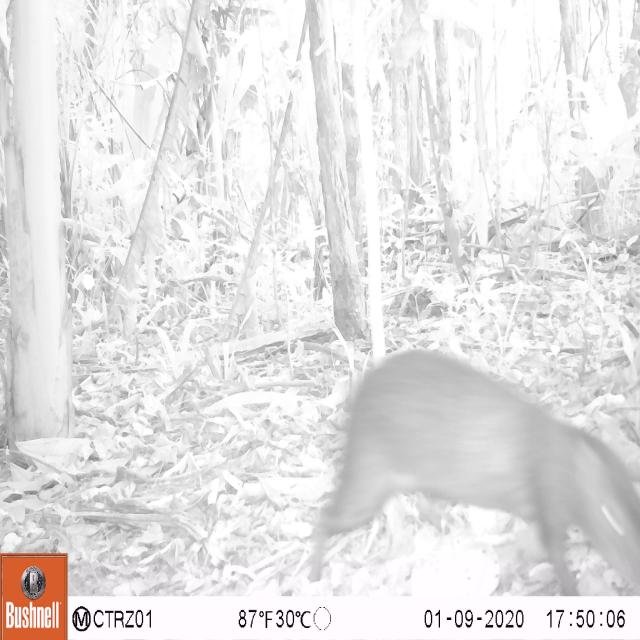Black Agouti: (297, 338, 640, 590)
